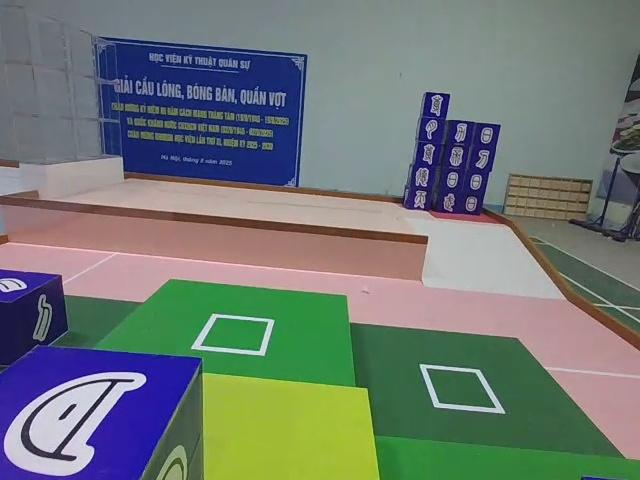R2 Real Blue: (3, 348, 201, 480), (0, 271, 66, 393)
